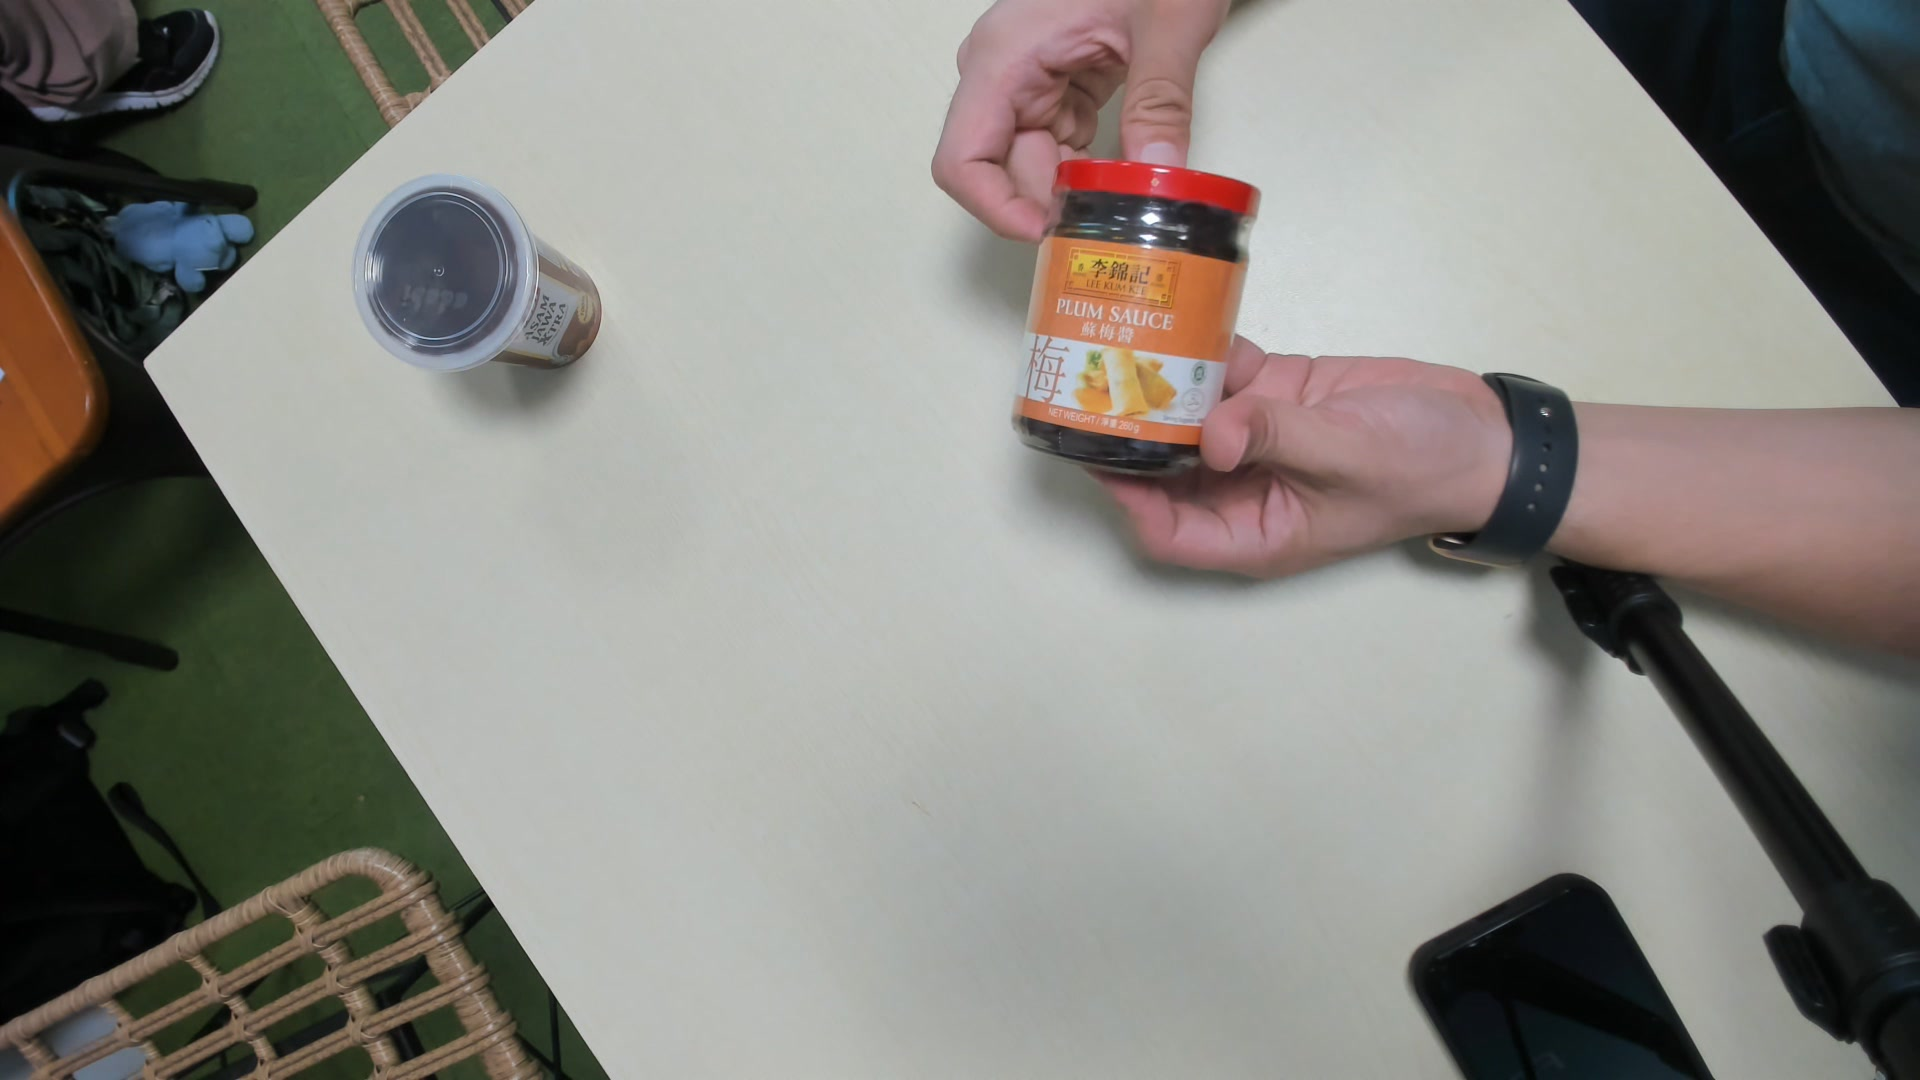OtherSauceDressing_200-299g_Halal_NonHealthy: (1015, 156, 1266, 488)
